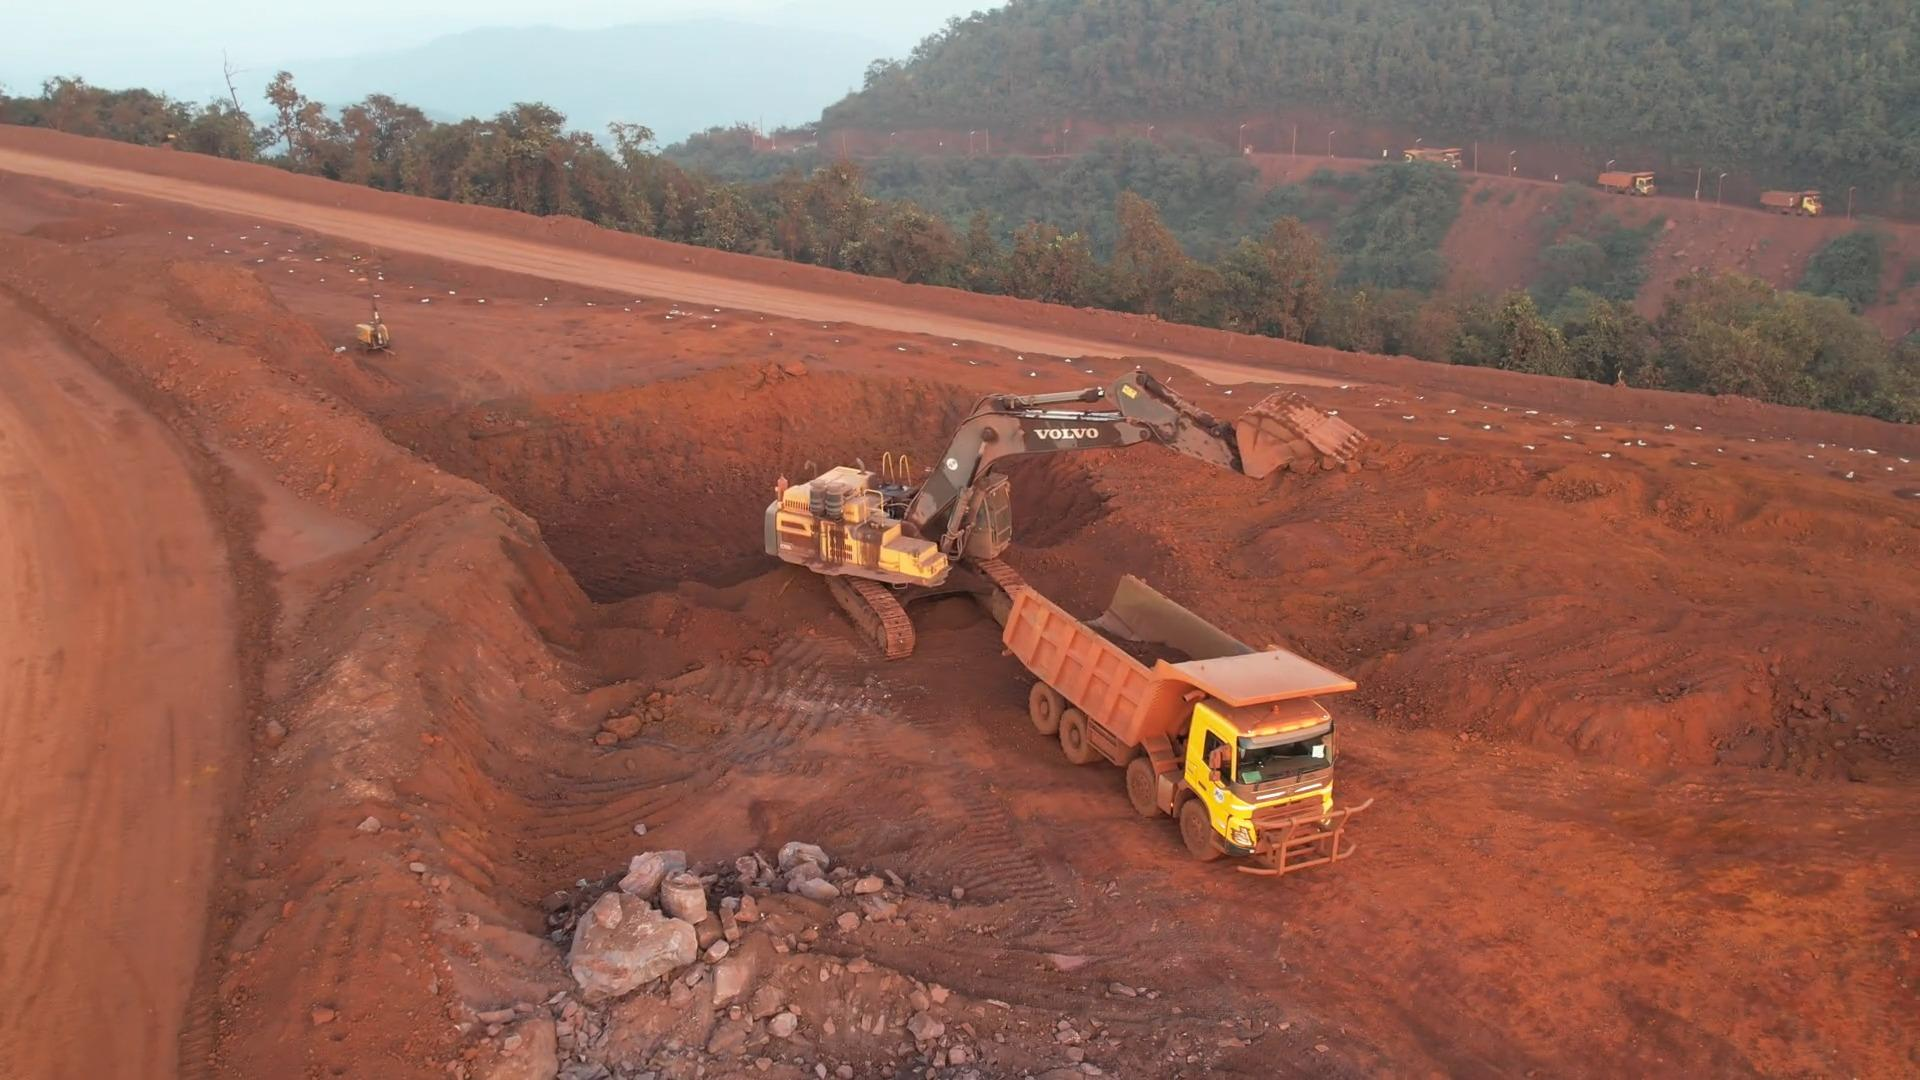excavator: (761, 383, 1323, 586)
